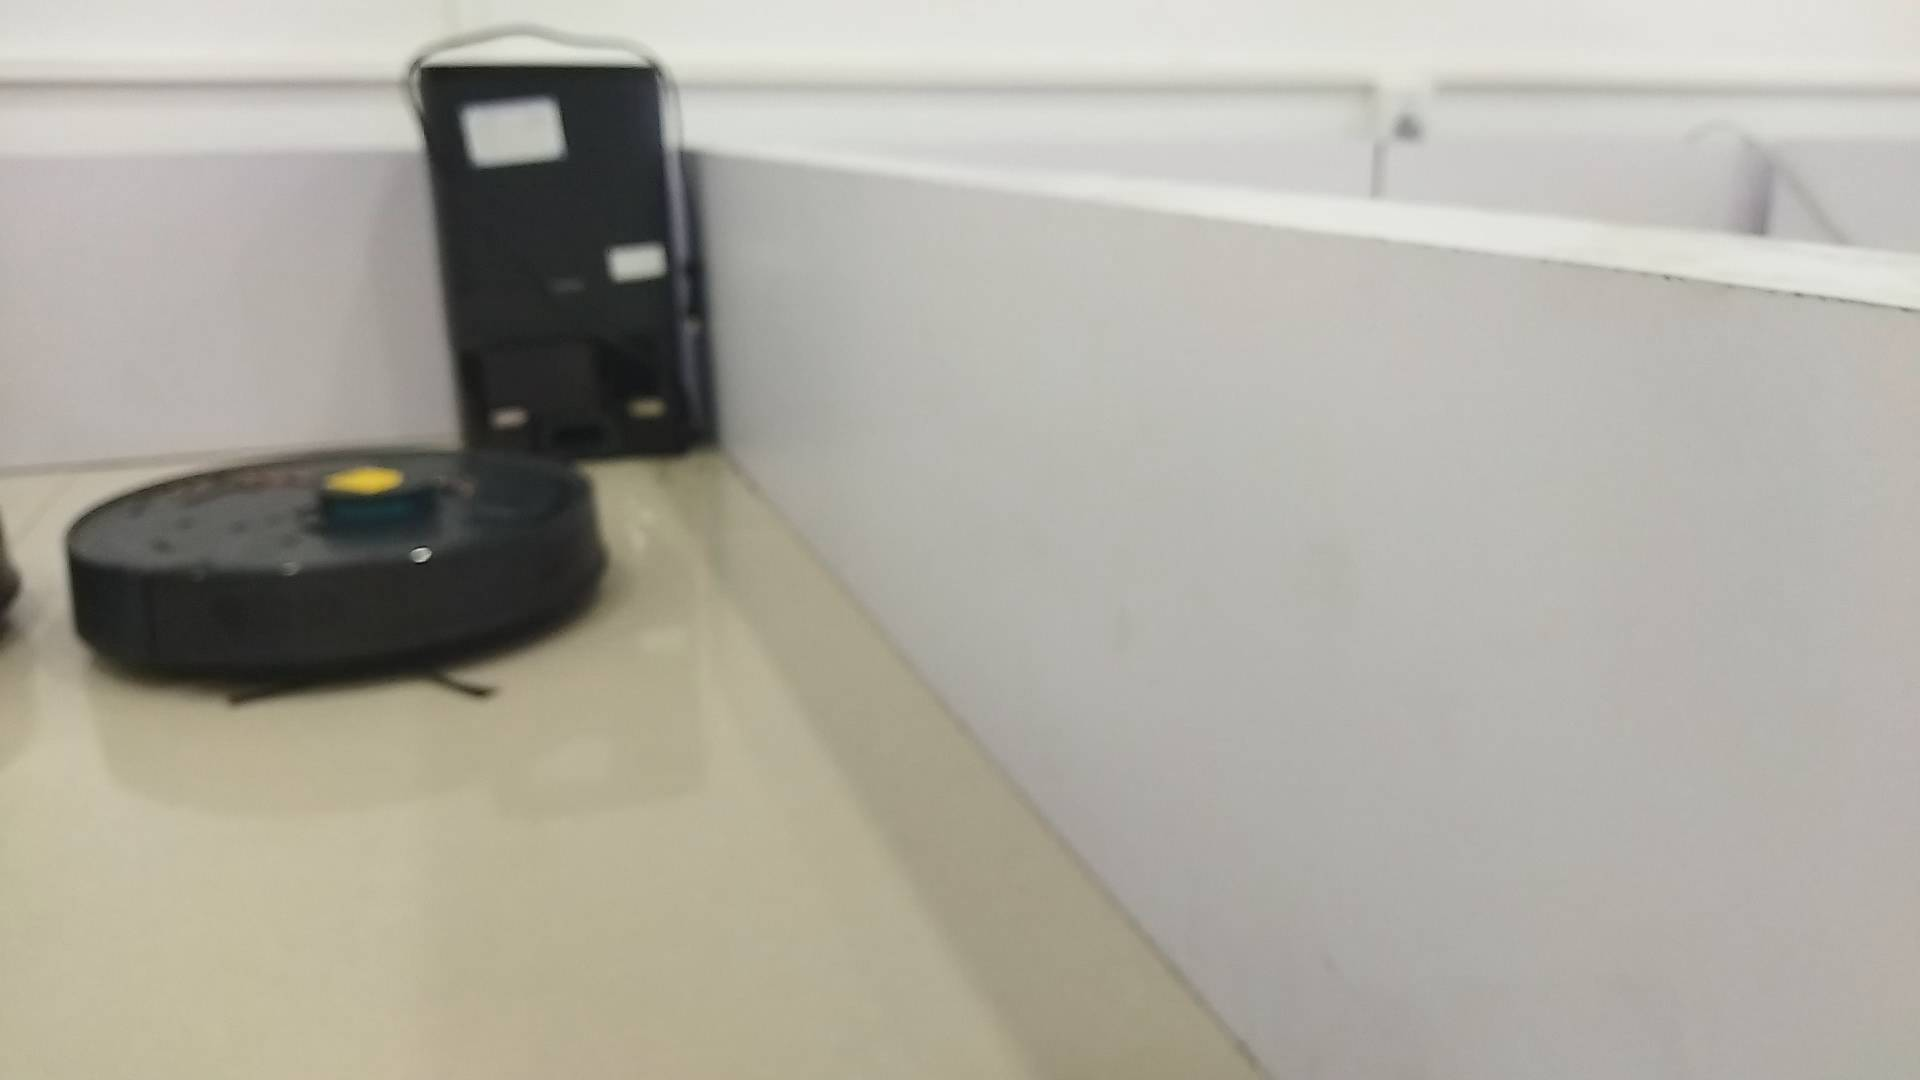dust collecting barrel: (425, 61, 702, 460)
